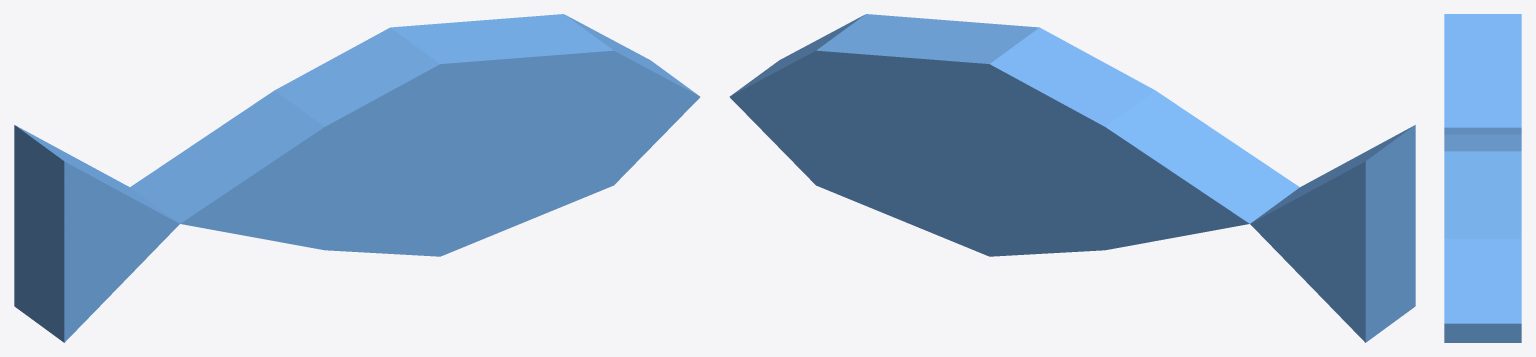
Rendered from blue_tang.glb.
3 views of the same model, side by side, from view 1: azimuth 30°, elevation 25°; view 2: azimuth 150°, elevation 25°; view 3: azimuth 270°, elevation 25° (orthographic). The views are drawn at different scales.
Size of the model in its own units: 2.42 by 0.7 by 0.33.
